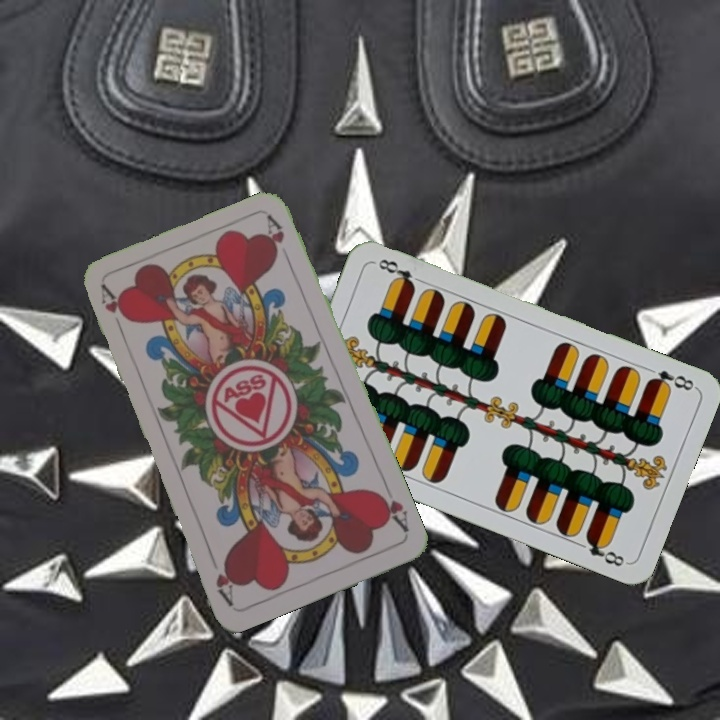E8: (644, 366, 698, 394)
HA: (371, 480, 412, 537), (96, 282, 131, 339)
